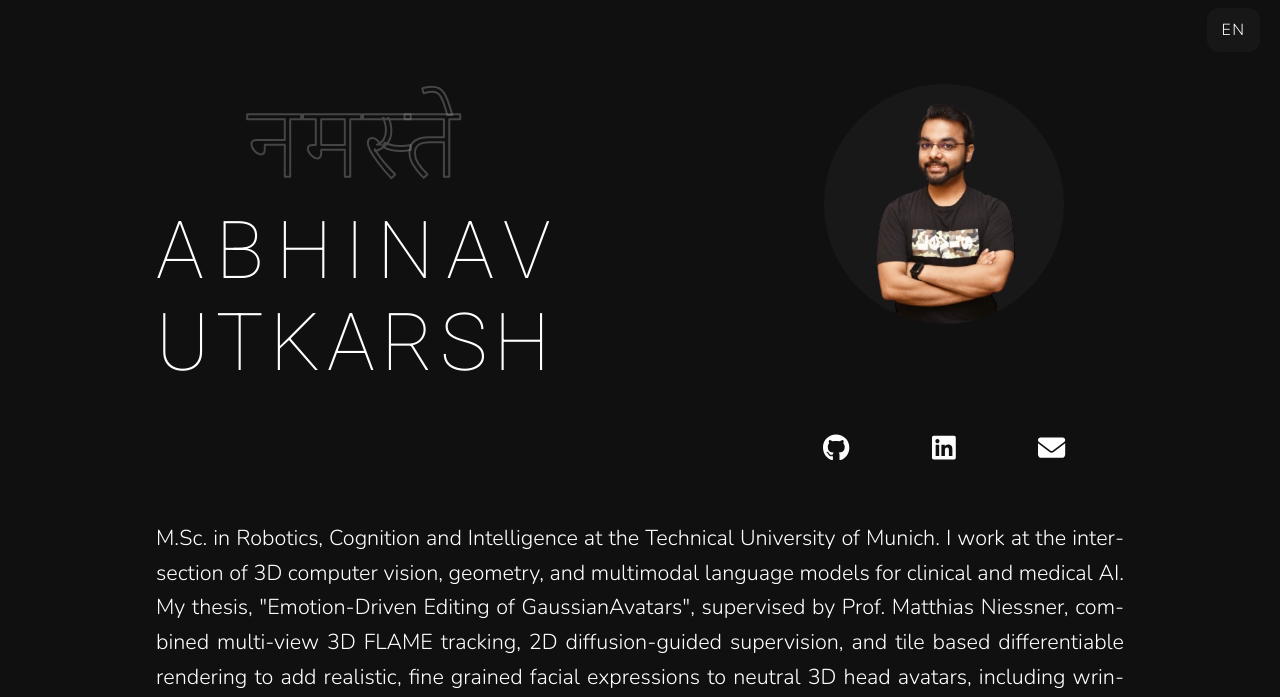
German privacy page is reachable and marked as German
Click the button with aria-label "Deutsch".
click(1234, 30)  # box [1207,8,1260,52]
Wait 400 ms
(page scrolled)
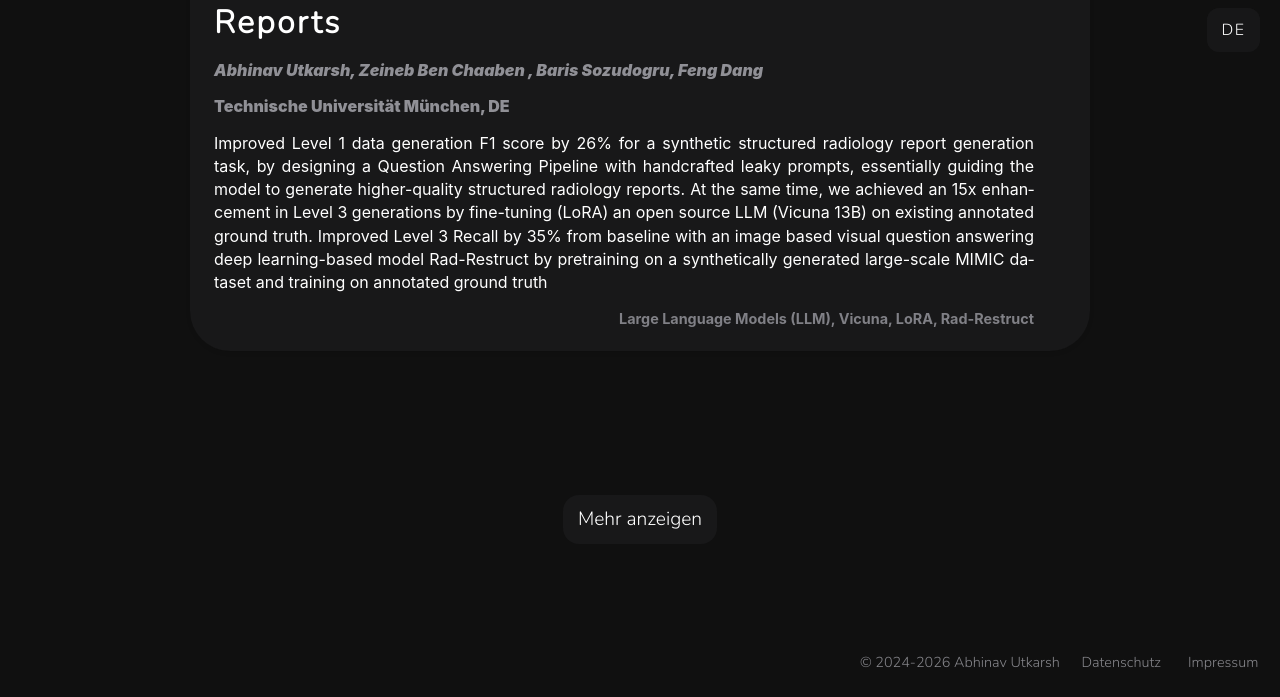
Click the link "Datenschutz".
click(1121, 662)  # box [1082,652,1161,672]
Wait 400 ms
(page scrolled)
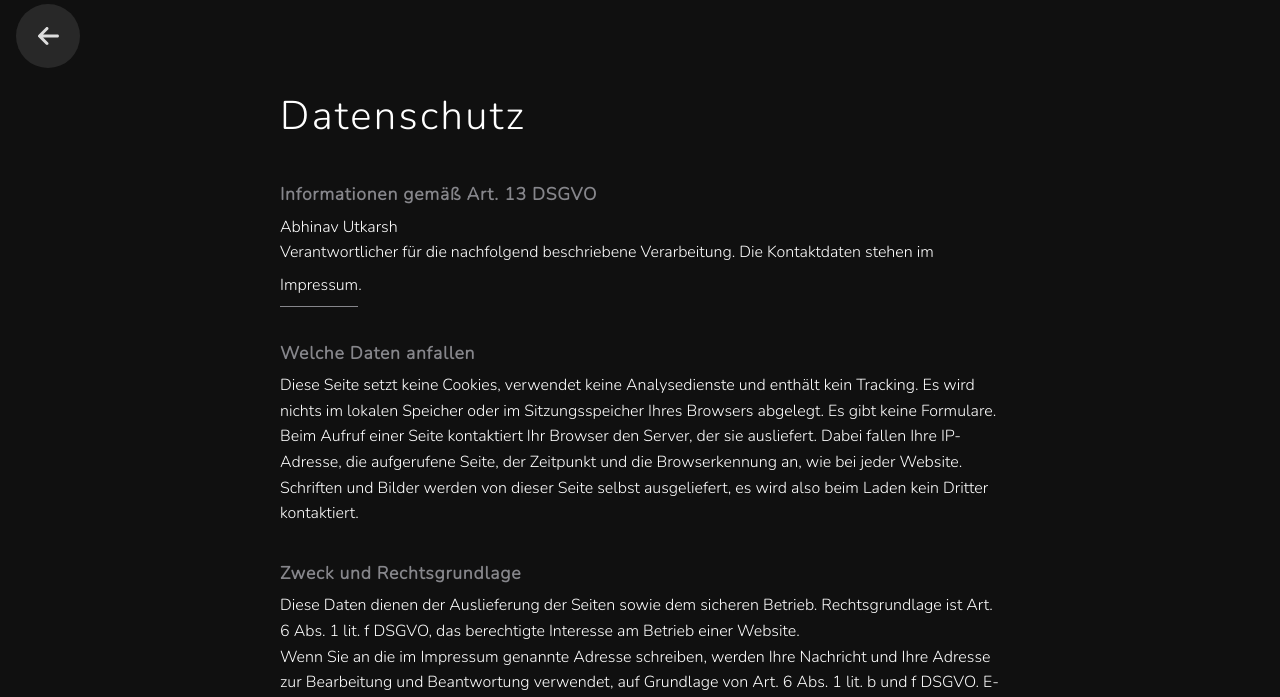
Expected: the heading "Informationen gemäß Art. 13 DSGVO" is shown, [280,182,597,206]
